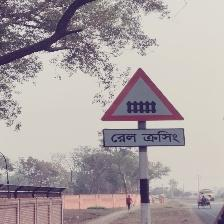Rail-crossing: (100, 68, 187, 147)
